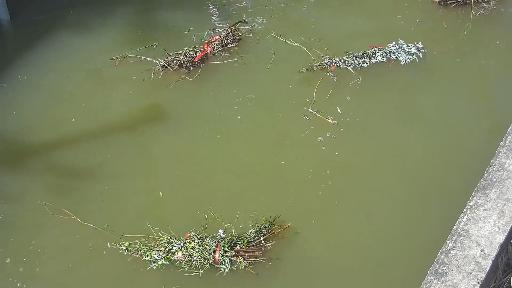twig: (44, 197, 286, 270), (271, 35, 427, 138), (123, 2, 274, 90), (395, 0, 508, 32)
